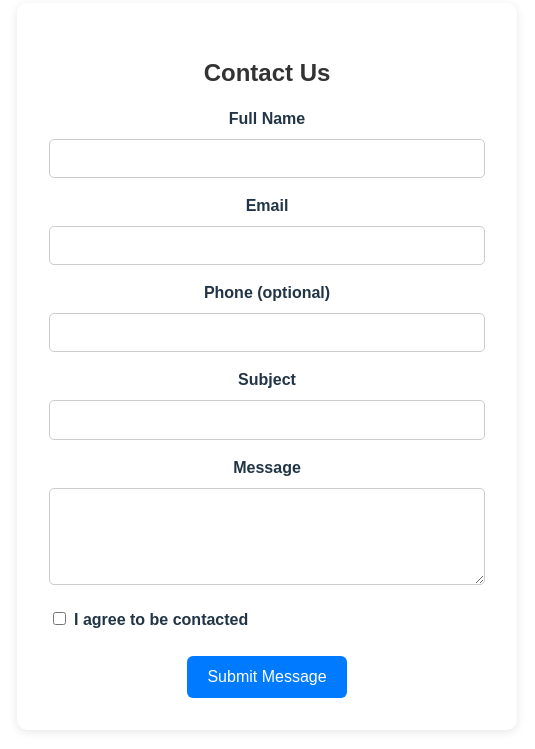
Test case: ContactForm › shows validation errors on submit
Click the button "Submit Message" at (267, 677), box [187, 656, 347, 698]
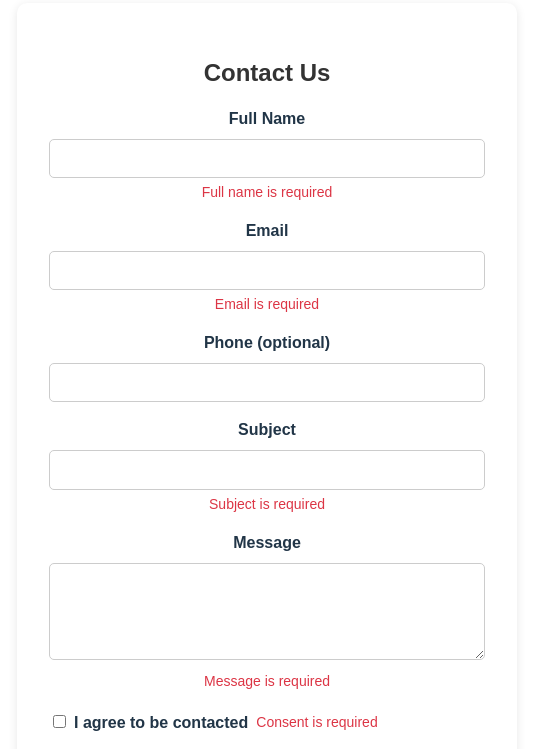
expect the text "Full name is required" is shown: met, box [202, 184, 332, 200]
expect the text "Email is required" is shown: met, box [215, 296, 319, 312]
expect the text "Subject is required" is shown: met, box [209, 496, 325, 512]
